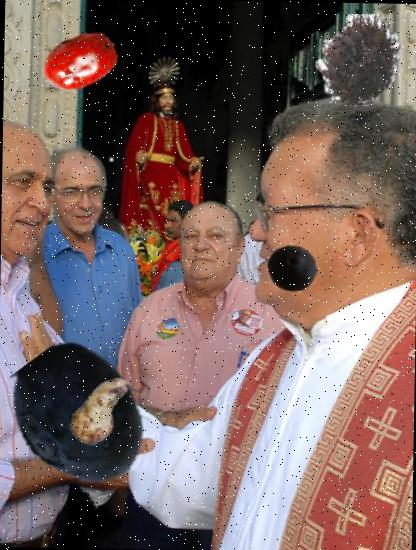Blueberry: (3, 341, 154, 492)
Pear: (66, 372, 143, 450)
Plum: (266, 242, 318, 294)
Rambutan: (312, 12, 407, 107)
Tomato: (39, 22, 119, 102)
